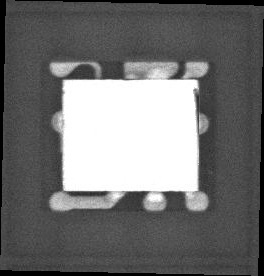DIE_BROKEN: (191, 87, 200, 135)
